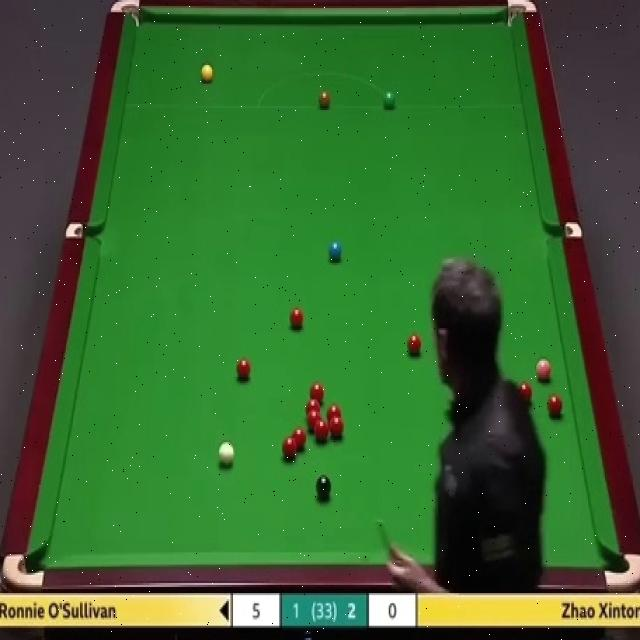black-ball: (315, 473, 332, 503)
blue-ball: (328, 240, 343, 261)
brown-ball: (318, 89, 331, 110)
green-ball: (384, 92, 396, 109)
pink-ball: (536, 357, 552, 383)
red-ball: (235, 357, 252, 384), (281, 437, 298, 462), (292, 429, 309, 454), (518, 381, 535, 406), (547, 395, 565, 418), (328, 416, 344, 441), (289, 308, 305, 330), (408, 332, 422, 357), (315, 418, 328, 442), (308, 382, 325, 400), (307, 412, 321, 431), (306, 398, 320, 414), (327, 406, 341, 420)
white-ball: (215, 438, 234, 463)
yellow-ball: (201, 65, 215, 85)
